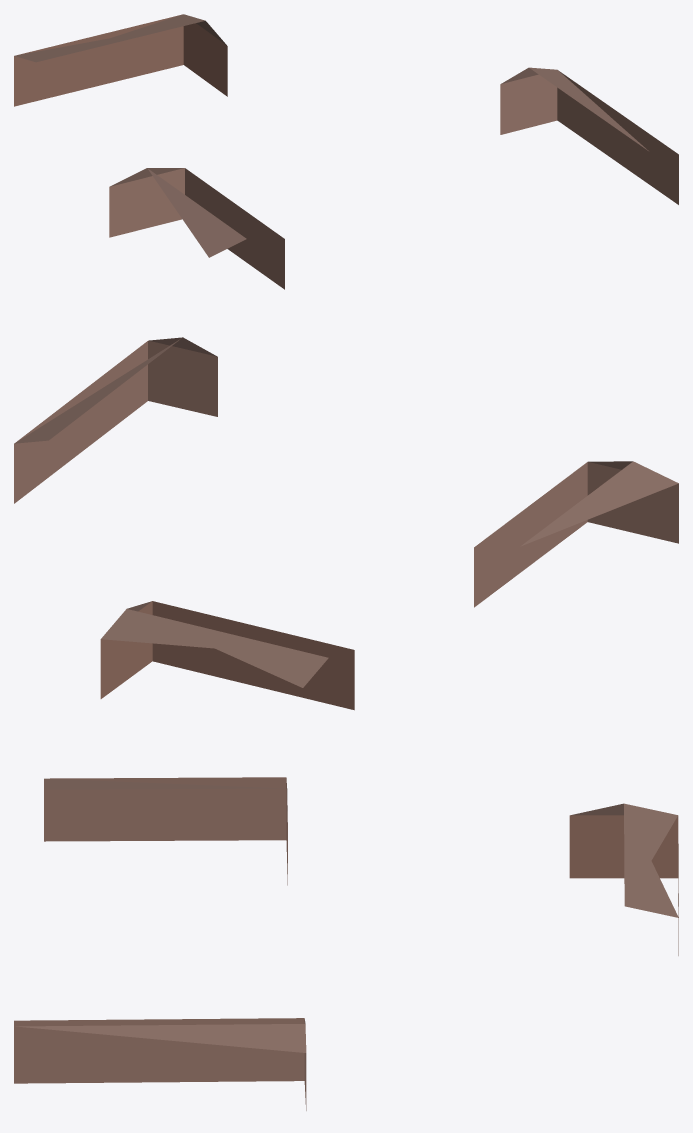
The model's file is c_1641_17834_buildings_residential.glb.
The picture shows the model from 3 angles, top to bottom: view 1: azimuth 30°, elevation 25°; view 2: azimuth 150°, elevation 25°; view 3: azimuth 270°, elevation 25°; orthographic projection. The views are drawn at different scales.
Parts seen in each view (by area): view 1: geometry_0; view 2: geometry_0; view 3: geometry_0.
Part boxes in pixels (x1,y1,x2,y2): geometry_0: (14, 14, 678, 289); geometry_0: (14, 337, 678, 710); geometry_0: (14, 777, 678, 1110).
Bounding box in the file's own units: 85.34 × 10.68 × 86.13.
